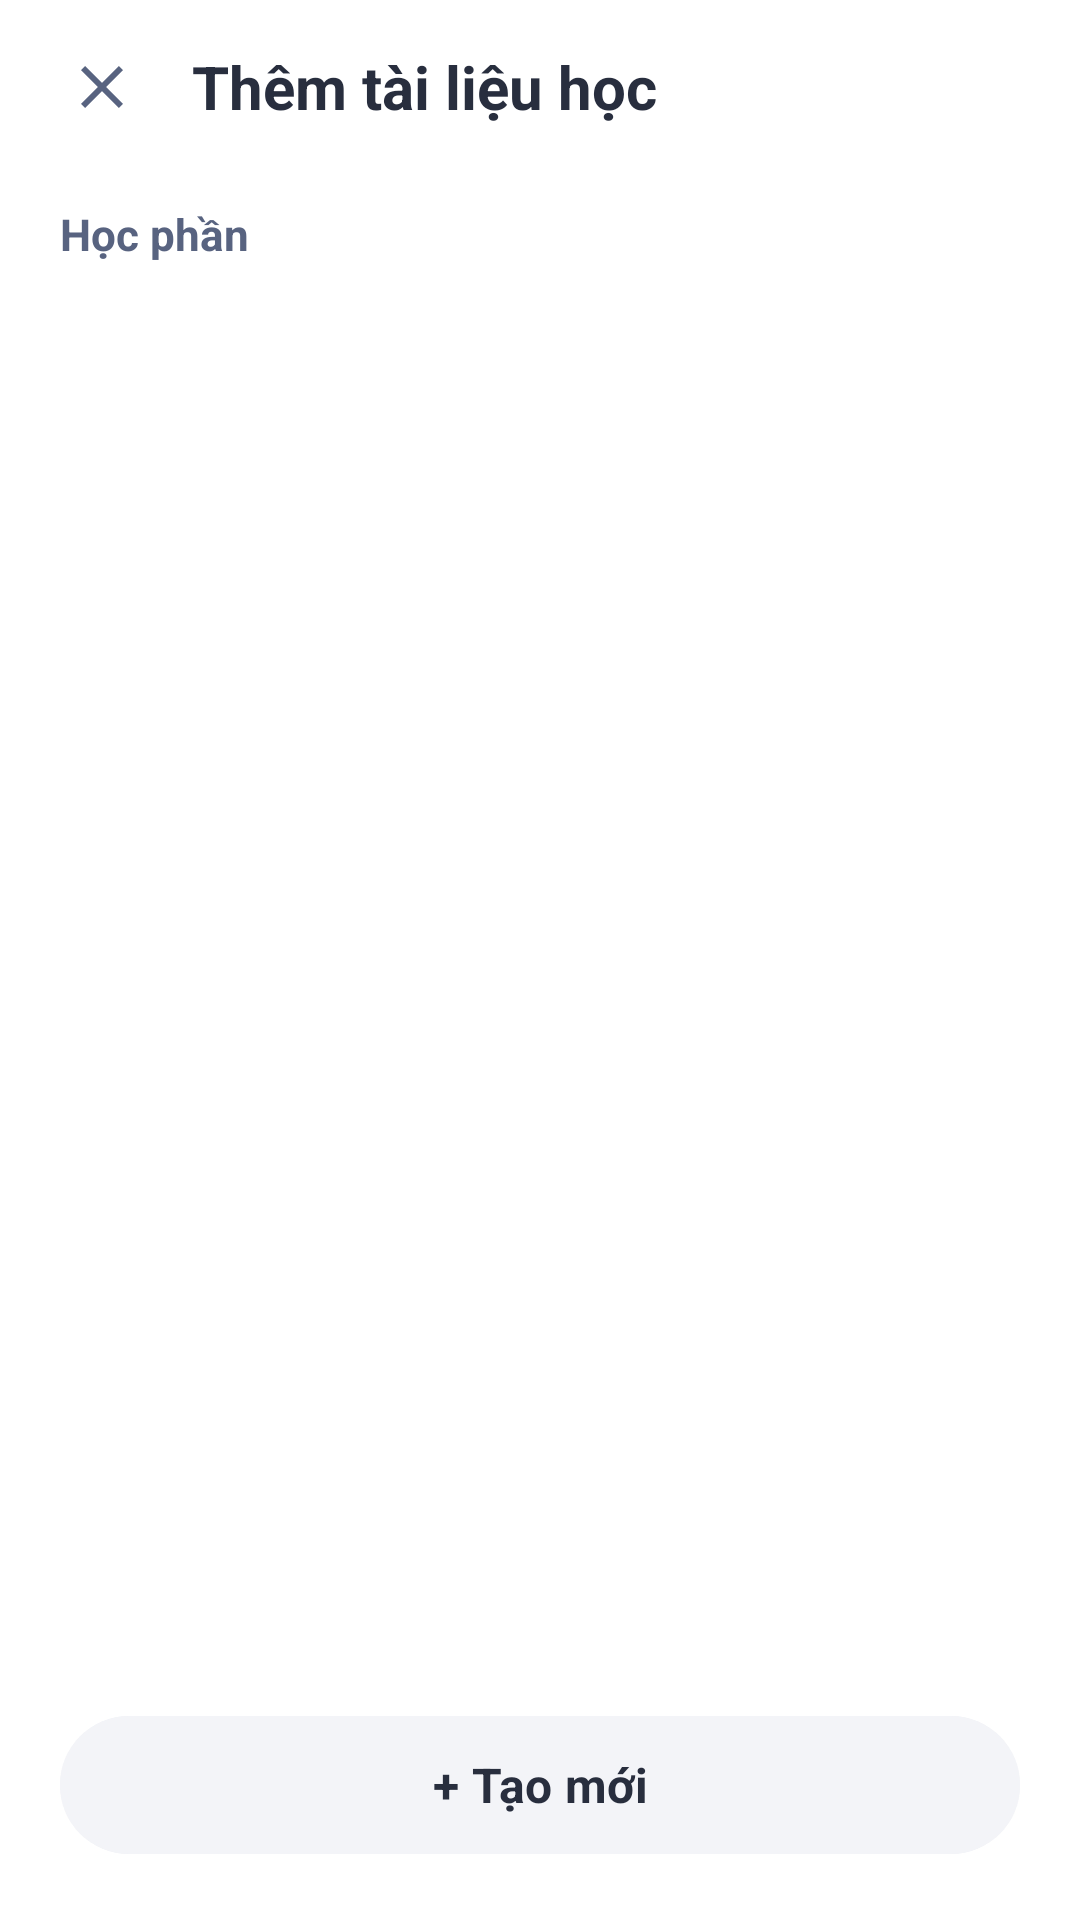

Locate icon controls on the screen. Image size 1080*1920, boxes as [x1,y1,x2,y2].
Đóng: [81,66,123,108]
